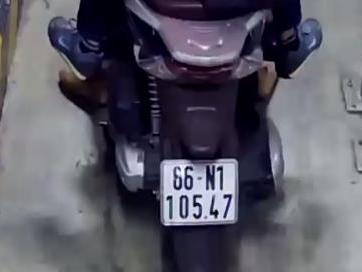num_plate: (160, 158, 237, 224)
